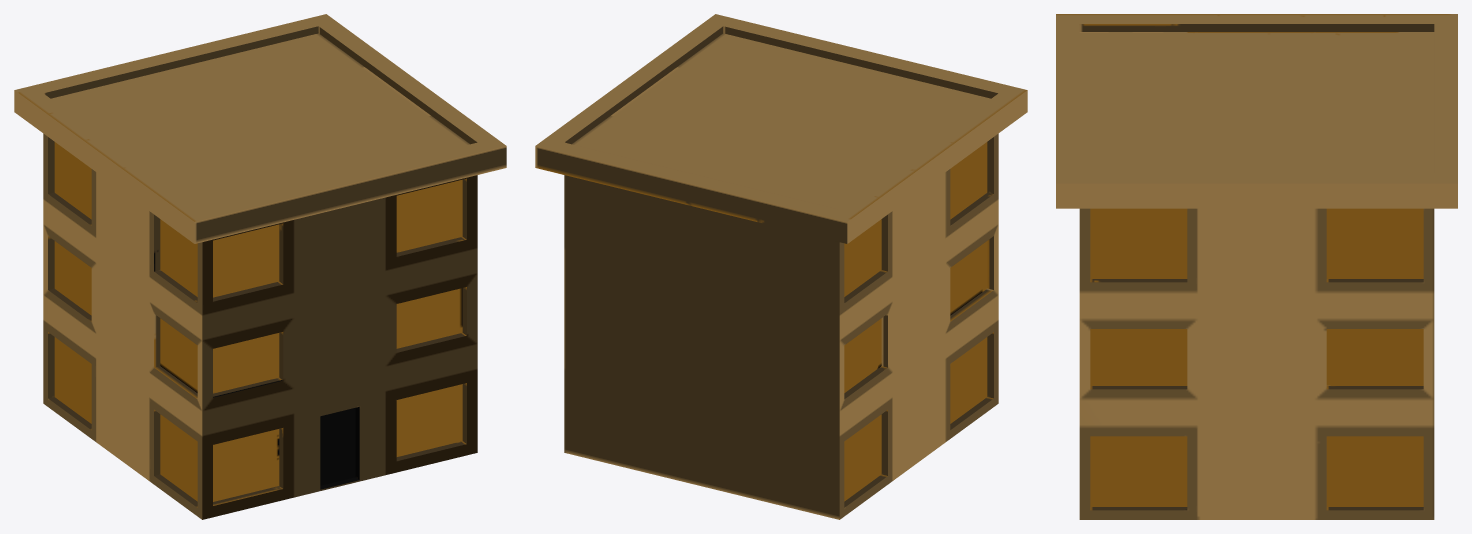
Rendered from house1.glb.
The picture shows the model from 3 angles, left to right: view 1: azimuth 30°, elevation 25°; view 2: azimuth 150°, elevation 25°; view 3: azimuth 270°, elevation 25°; orthographic projection. The views are drawn at different scales.
Visible parts, largest first — view 1: Cube.006; view 2: Cube.006; view 3: Cube.006.
Part boxes in pixels (x1=…): Cube.006: x1=14, y1=14, x2=506, y2=519; Cube.006: x1=535, y1=14, x2=1027, y2=519; Cube.006: x1=1056, y1=14, x2=1457, y2=519.
Size of the model in its own units: 44.19 by 42 by 44.19.
